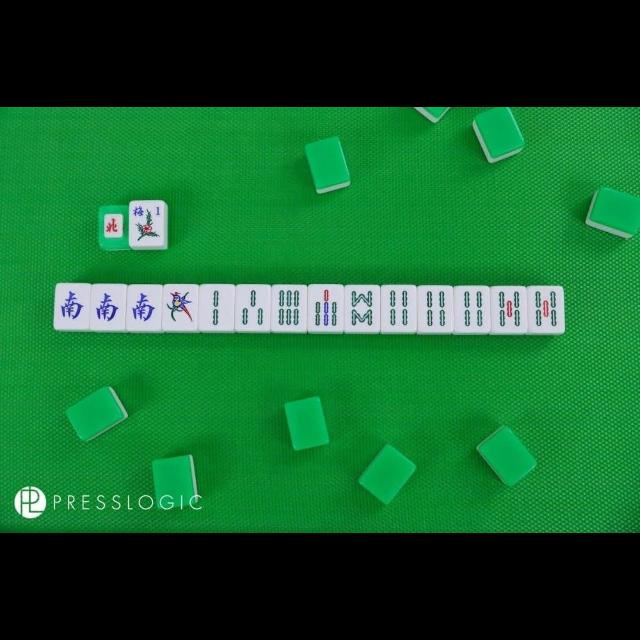b1: (163, 284, 199, 332)
b2: (199, 284, 235, 332)
b3: (236, 284, 270, 332)
b4: (382, 285, 418, 333), (418, 287, 454, 333), (456, 286, 490, 334)
b5: (528, 286, 566, 332), (492, 286, 528, 332)
b6: (272, 285, 306, 333)
b7: (308, 284, 344, 332)
b8: (346, 285, 380, 333)
f1: (128, 202, 166, 220)
ws: (54, 283, 90, 331), (128, 286, 164, 332), (92, 284, 126, 332)
